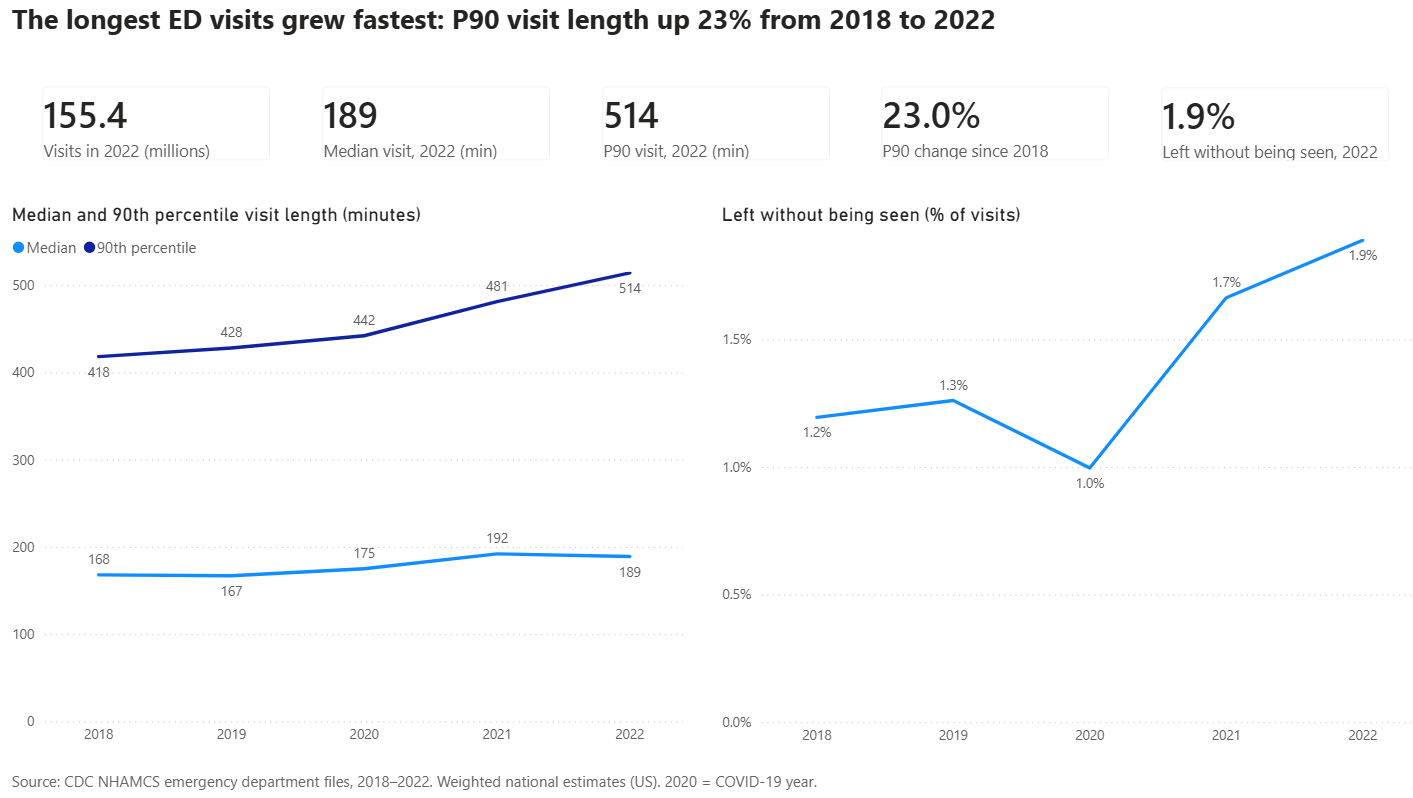

Layout of this report page (visuals, bound fields, positions):
{"tool":"powerbi","page":{"name":"Overview","canvas":[1280,720],"ordinal":1},"visuals":[{"type":"textbox","box":[9.5,0,1175.6,51.7],"z":0},{"type":"textbox","box":[9.8,684.5,1166,35.5],"z":1000},{"type":"lineChart","title":"Median and 90th percentile visit length (minutes)","fields":{"Category":["dim_year.year"],"Y":["_Measures.Median Visit (min)","_Measures.P90 Visit (min)"]},"box":[9.5,185,605.2,490],"z":2000},{"type":"lineChart","title":"Left without being seen (% of visits)","fields":{"Category":["dim_year.year"],"Y":["_Measures.Left Without Being Seen %"]},"box":[639.3,185.3,626.9,490.3],"z":3000},{"type":"cardVisual","fields":{"Data":["_Measures.Visits (M)"]},"box":[25,65,236,100],"z":4000},{"type":"cardVisual","fields":{"Data":["_Measures.Median Visit (min)"]},"box":[273,65,236.2,100.2],"z":5000},{"type":"cardVisual","fields":{"Data":["_Measures.P90 Visit (min)"]},"box":[521,65,236.2,100.2],"z":6000},{"type":"cardVisual","fields":{"Data":["_Measures.P90 Visit Change since 2018 %"]},"box":[769,65,236,100],"z":7000},{"type":"cardVisual","fields":{"Data":["_Measures.Left Without Being Seen %"]},"box":[1017,65.4,236,100],"z":8000}]}

Visuals, with their boxes in screenshot pixels (x1, y1, x2, y2), scaled from the page's 1280x720 canvas onto the 1413x798 screenshot:
textbox: box=[10, 0, 1308, 57]
textbox: box=[11, 759, 1298, 797]
"Median and 90th percentile visit length (minutes)" lineChart: box=[10, 205, 679, 748]
"Left without being seen (% of visits)" lineChart: box=[706, 205, 1398, 749]
cardVisual - _Measures.Visits (M): box=[28, 72, 288, 183]
cardVisual - _Measures.Median Visit (min): box=[301, 72, 562, 183]
cardVisual - _Measures.P90 Visit (min): box=[575, 72, 836, 183]
cardVisual - _Measures.P90 Visit Change since 2018 %: box=[849, 72, 1109, 183]
cardVisual - _Measures.Left Without Being Seen %: box=[1123, 72, 1383, 183]
